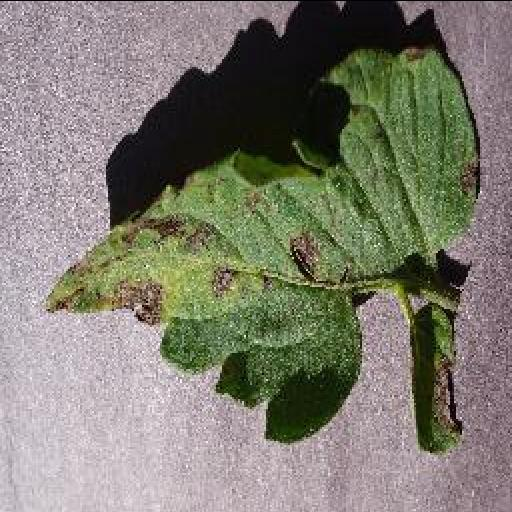disease_tomato: (42, 46, 484, 442)
